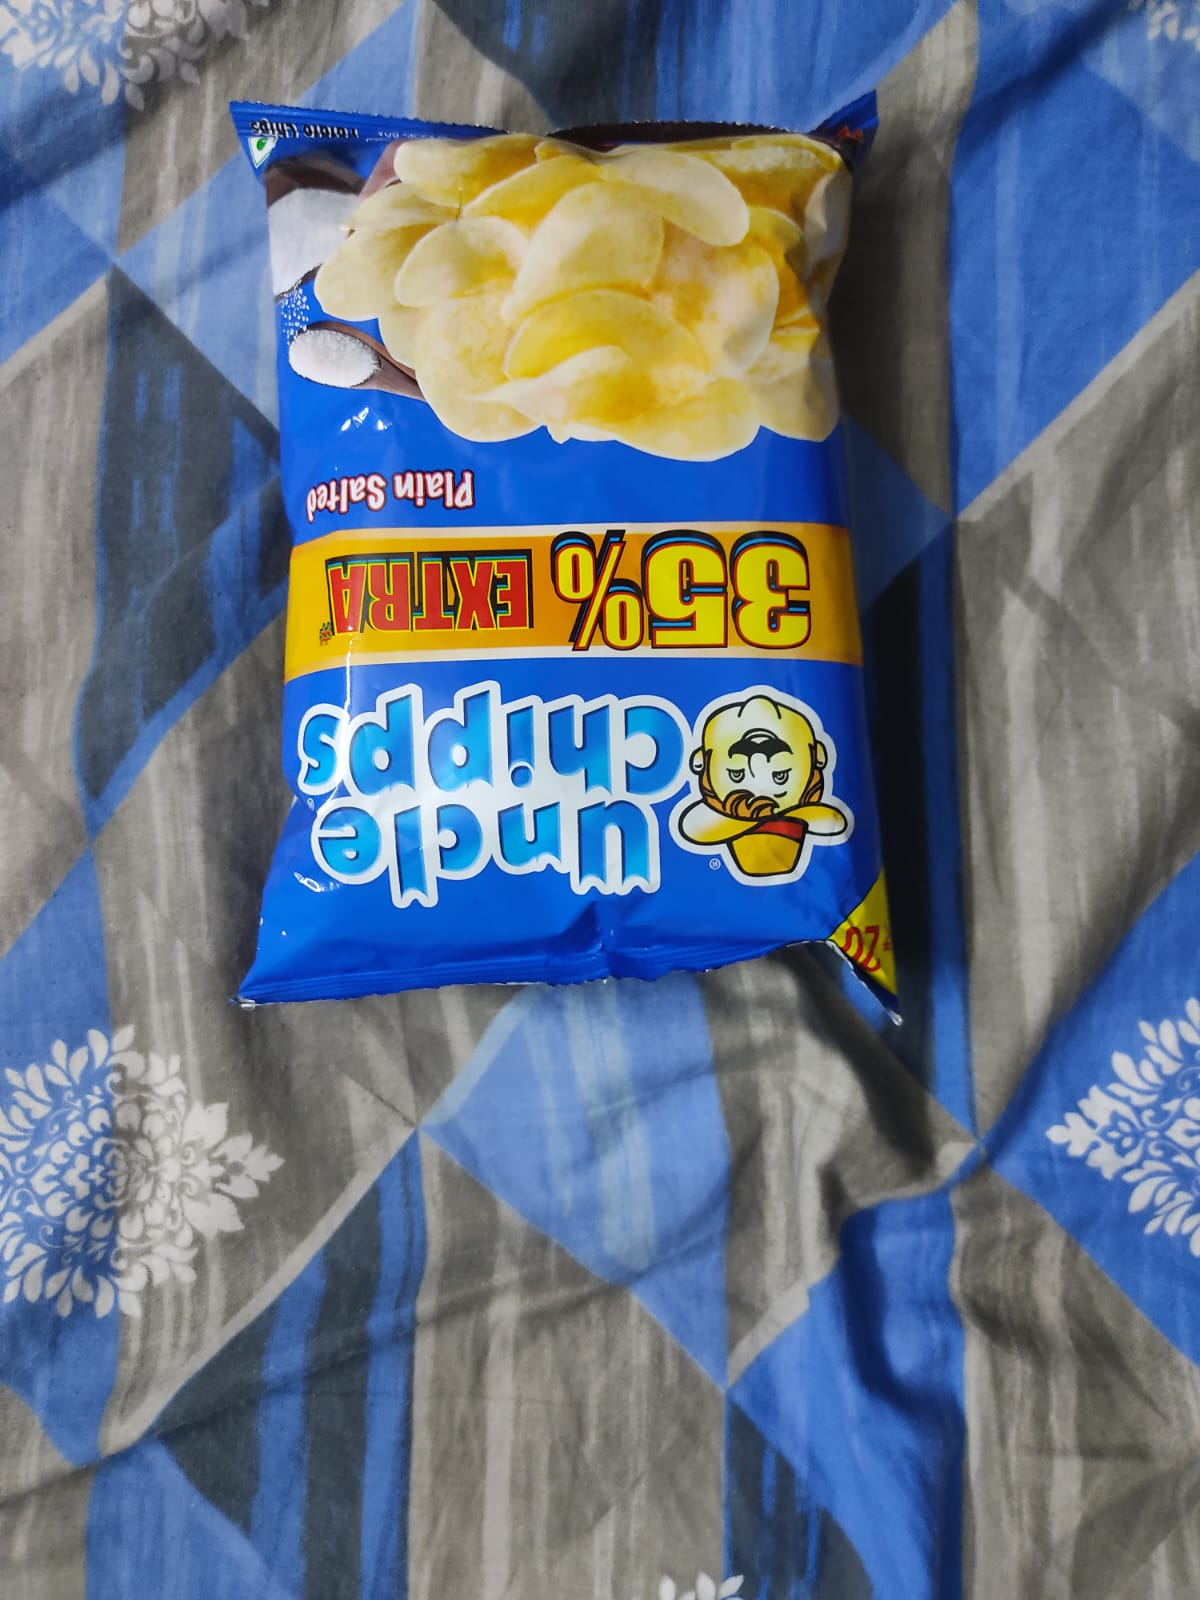020_UncleChips: (258, 127, 891, 960)
